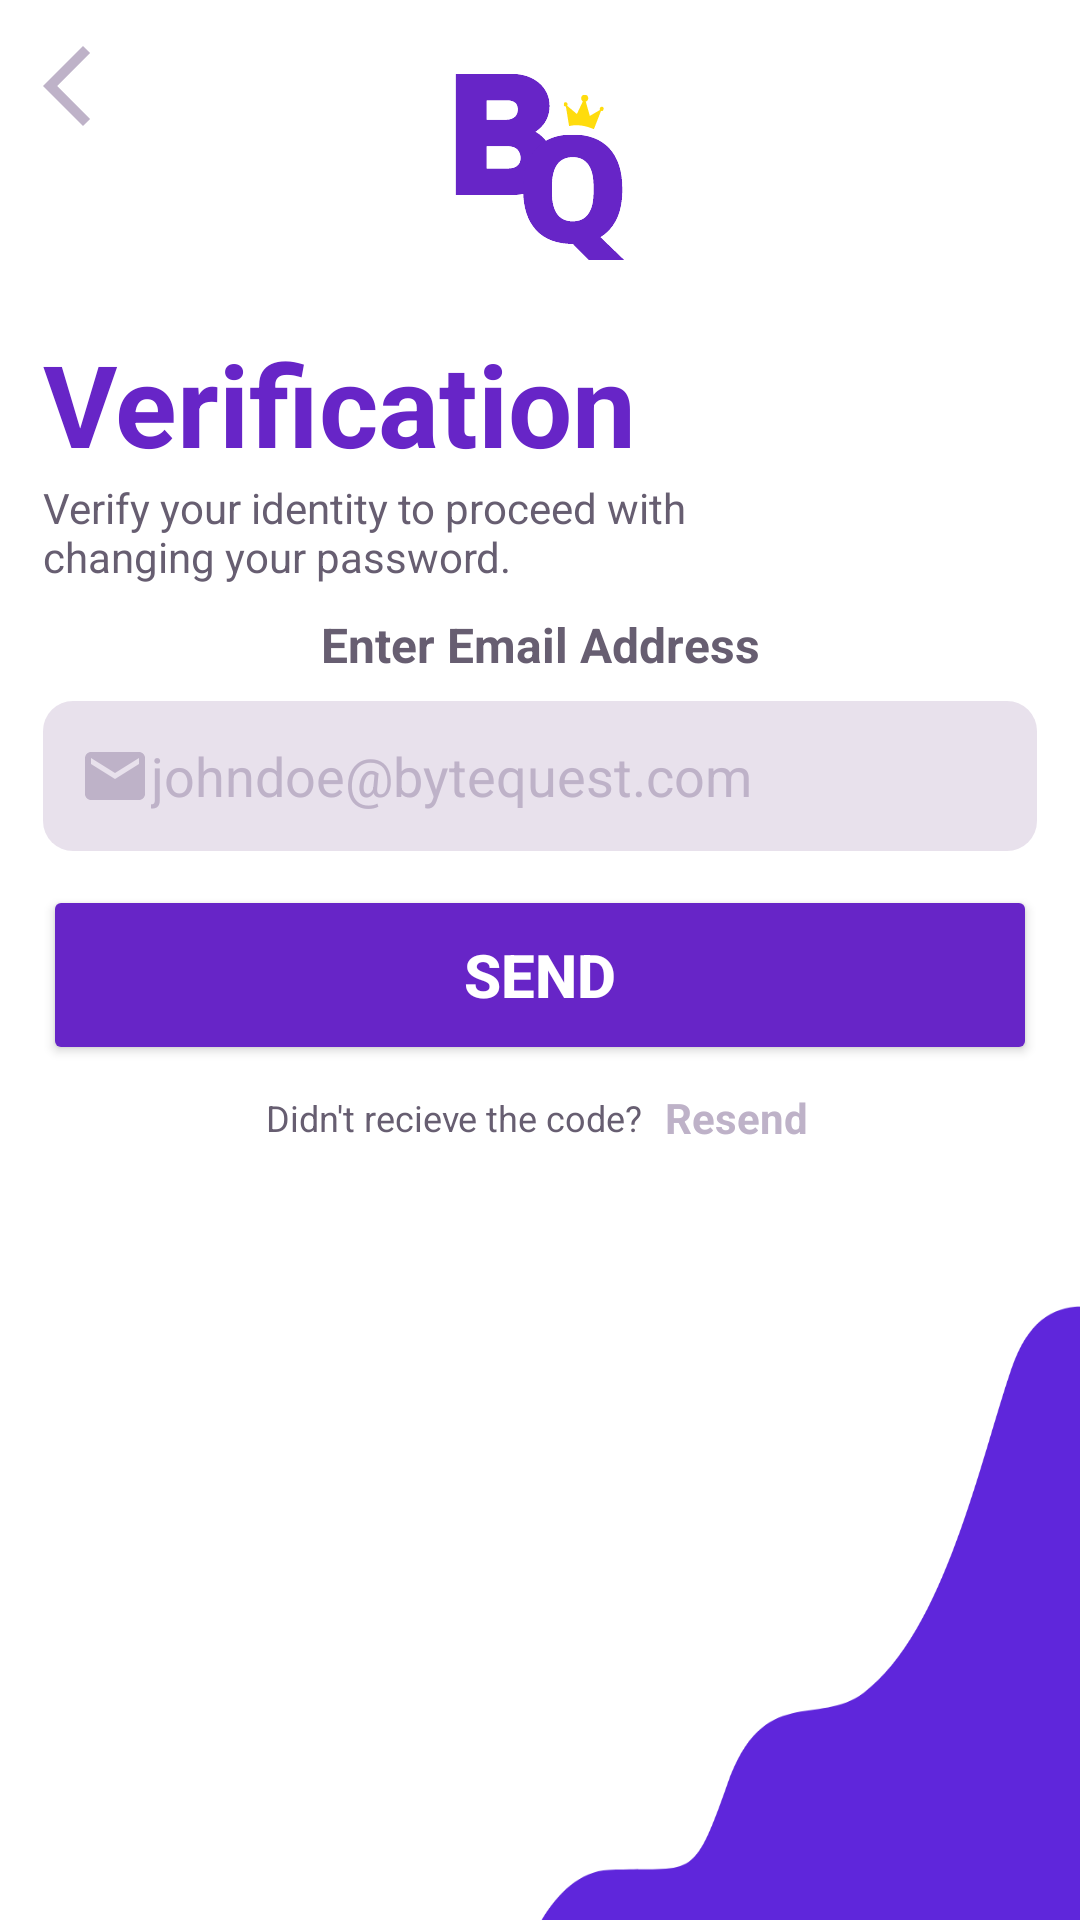

Screen size 1080px×1920px. Icon name, then its center in pixels as (x,y):
go back: (66,86)
